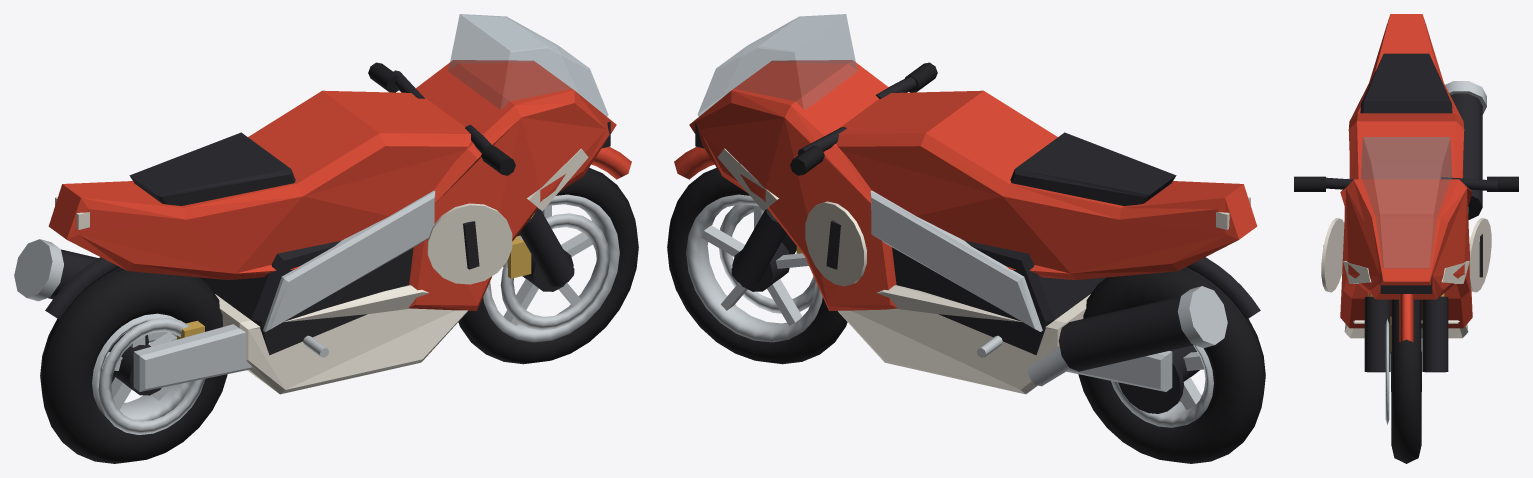
File: racemoto.glb
3 renders of one model, left to right at view 1: azimuth 30°, elevation 25°; view 2: azimuth 150°, elevation 25°; view 3: azimuth 270°, elevation 25°, orthographic. The views are drawn at different scales.
Parts seen in each view (by area): view 1: tank_and_tail, upper_fairing, rear_tyre, belly_pan, windscreen, front_tyre, frame_spar_1, engine_block, seat_pad, swingarm_1, number_plate_1, front_rim (+12 smaller); view 2: tank_and_tail, upper_fairing, rear_tyre, belly_pan, windscreen, front_tyre, frame_spar_0, engine_block, seat_pad, muffler, front_rim, number_plate_0 (+14 smaller); view 3: upper_fairing, tank_and_tail, windscreen, front_tyre, seat_pad, muffler, fork_slider_0, fork_slider_1, number_plate_1, number_plate_0, fairing_stripe, front_mudguard (+8 smaller).
Part boxes in pixels (left/top/right/bottom): tank_and_tail: left=48, top=90, right=471, bottom=280; upper_fairing: left=408, top=60, right=616, bottom=310; rear_tyre: left=40, top=268, right=227, bottom=463; belly_pan: left=215, top=285, right=467, bottom=394; windscreen: left=448, top=14, right=608, bottom=116; front_tyre: left=458, top=167, right=638, bottom=364; frame_spar_1: left=263, top=190, right=435, bottom=331; engine_block: left=200, top=241, right=413, bottom=355; seat_pad: left=129, top=132, right=295, bottom=205; swingarm_1: left=133, top=324, right=252, bottom=391; number_plate_1: left=427, top=203, right=512, bottom=284; front_rim: left=483, top=194, right=619, bottom=342; tank_and_tail: left=836, top=90, right=1257, bottom=280; upper_fairing: left=689, top=60, right=897, bottom=310; rear_tyre: left=1078, top=268, right=1265, bottom=463; belly_pan: left=838, top=285, right=1090, bottom=394; windscreen: left=697, top=14, right=857, bottom=116; front_tyre: left=667, top=167, right=847, bottom=364; frame_spar_0: left=870, top=190, right=1042, bottom=331; engine_block: left=892, top=241, right=1105, bottom=355; seat_pad: left=1010, top=132, right=1176, bottom=205; muffler: left=1058, top=296, right=1193, bottom=371; front_rim: left=686, top=194, right=822, bottom=342; number_plate_0: left=805, top=201, right=866, bottom=286; upper_fairing: left=1340, top=179, right=1472, bottom=328; tank_and_tail: left=1348, top=14, right=1464, bottom=179; windscreen: left=1360, top=137, right=1452, bottom=268; front_tyre: left=1391, top=299, right=1421, bottom=463; seat_pad: left=1360, top=53, right=1452, bottom=113; muffler: left=1450, top=93, right=1482, bottom=220; fork_slider_0: left=1422, top=296, right=1448, bottom=372; fork_slider_1: left=1364, top=296, right=1390, bottom=372; number_plate_1: left=1321, top=218, right=1344, bottom=292; number_plate_0: left=1469, top=218, right=1491, bottom=292; fairing_stripe: left=1343, top=261, right=1469, bottom=283; front_mudguard: left=1399, top=294, right=1413, bottom=342.
Bounding box in the file's own units: 2.04 × 1.12 × 0.78.
